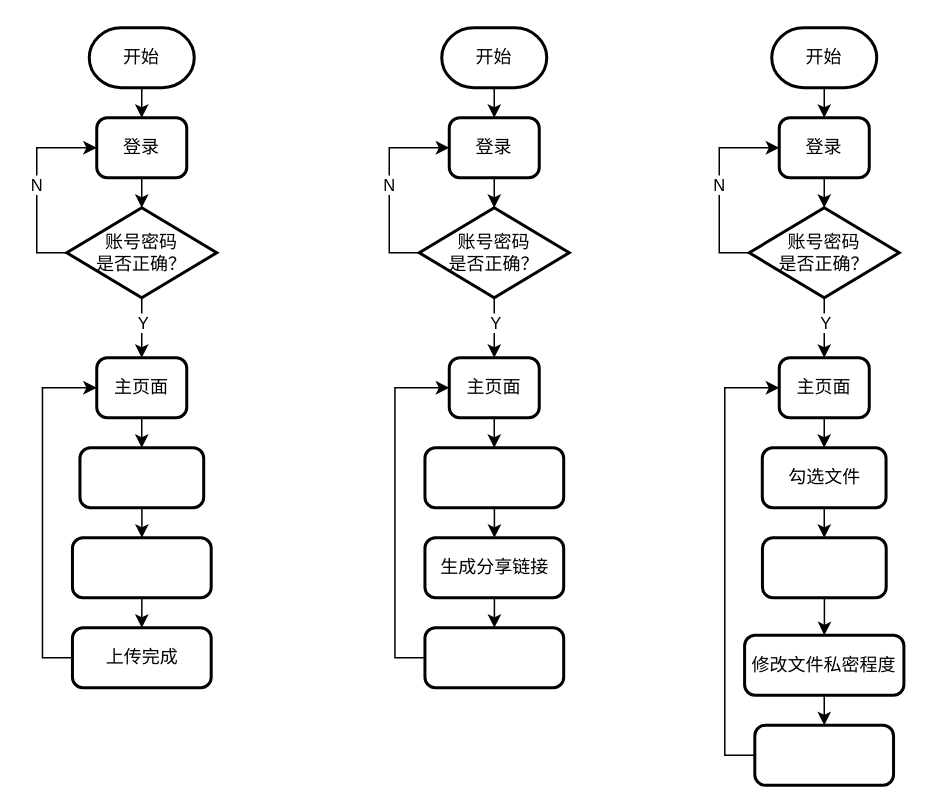
This 932x812 diagram has some shape labels left out. The centre of each missing label's shape, as x and y in pixels:
"分享完成" goes at (x=493, y=657).
"点击上传文件" goes at (x=141, y=477).
"点击分享图标" goes at (x=493, y=477).
"点击编辑" goes at (x=823, y=567).
"编辑完成" goes at (x=823, y=754).
"选择本地 文件上传" goes at (x=141, y=567).
